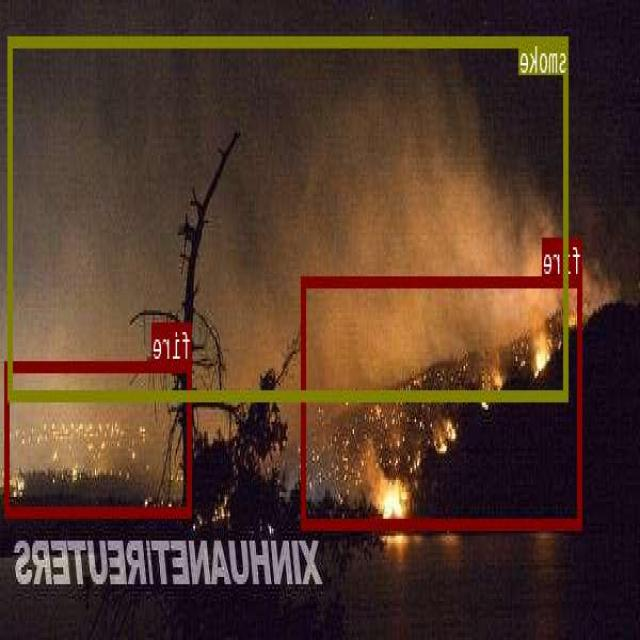fire: (302, 274, 583, 528), (6, 360, 192, 516)
smoke: (9, 34, 569, 398)
